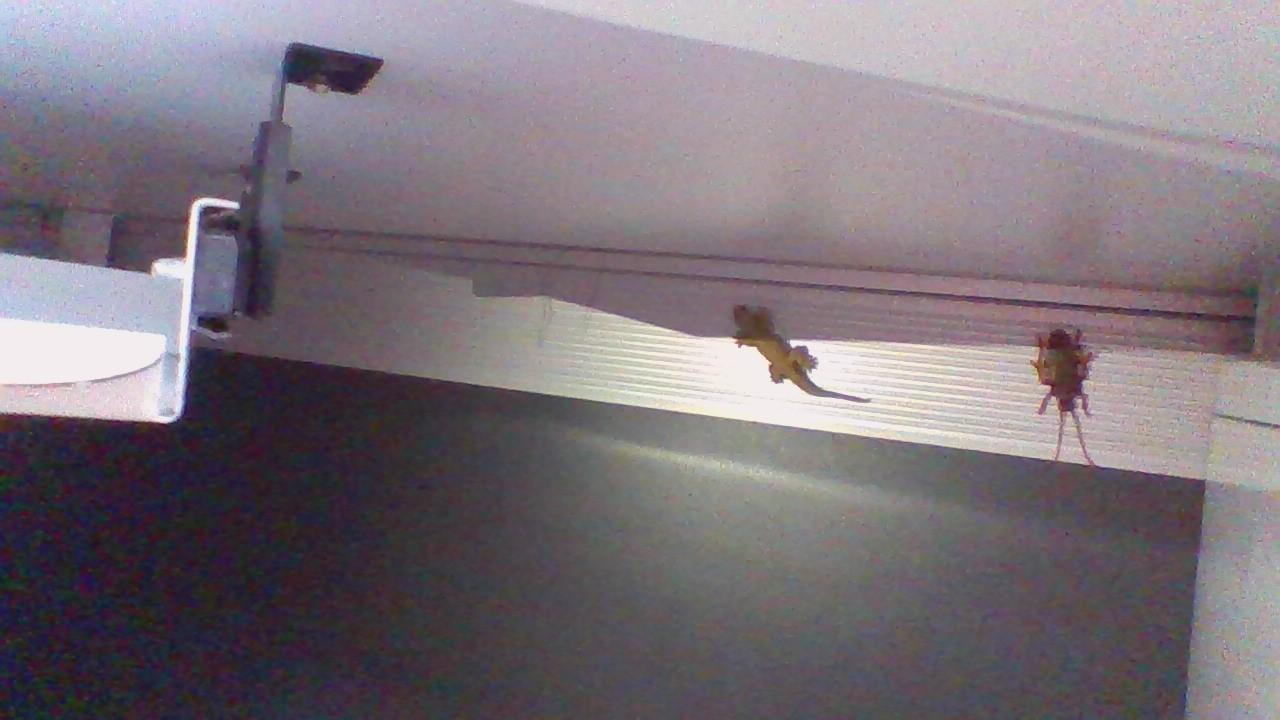cockroach: (1017, 312, 1109, 466)
lizard: (717, 283, 877, 406)
